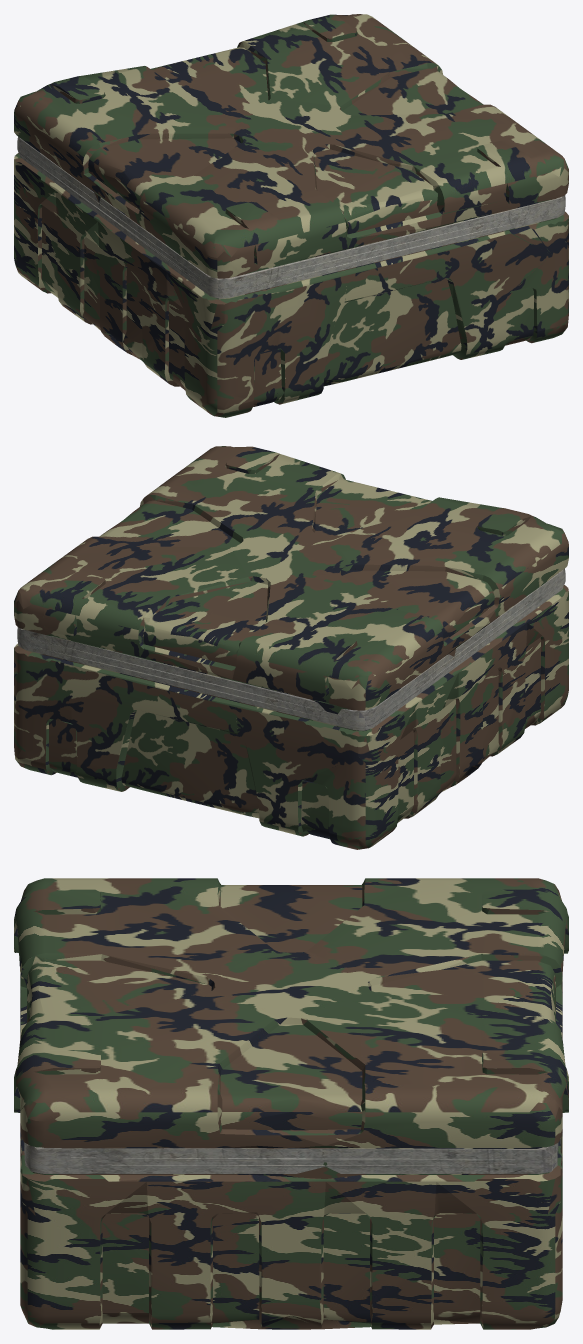
The model's file is box_small.FBX.
3 renders of one model, top to bottom at view 1: azimuth 30°, elevation 25°; view 2: azimuth 150°, elevation 25°; view 3: azimuth 270°, elevation 25°, orthographic. The views are drawn at different scales.
Parts seen in each view (by area): view 1: BoxA_4; view 2: BoxA_4; view 3: BoxA_4.
Part boxes in pixels (left/top/right/bottom): BoxA_4: left=14, top=14, right=568, bottom=417; BoxA_4: left=14, top=446, right=568, bottom=849; BoxA_4: left=14, top=878, right=568, bottom=1329.
Bounding box in the file's own units: 1.04 × 0.519 × 1.07.
